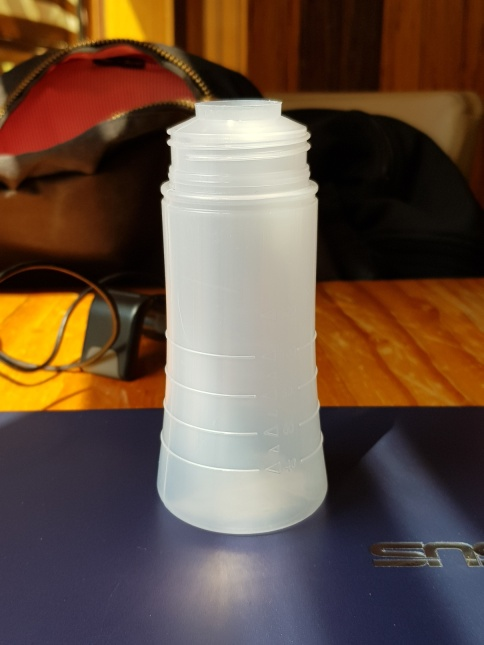Plastic: (149, 95, 331, 535)
